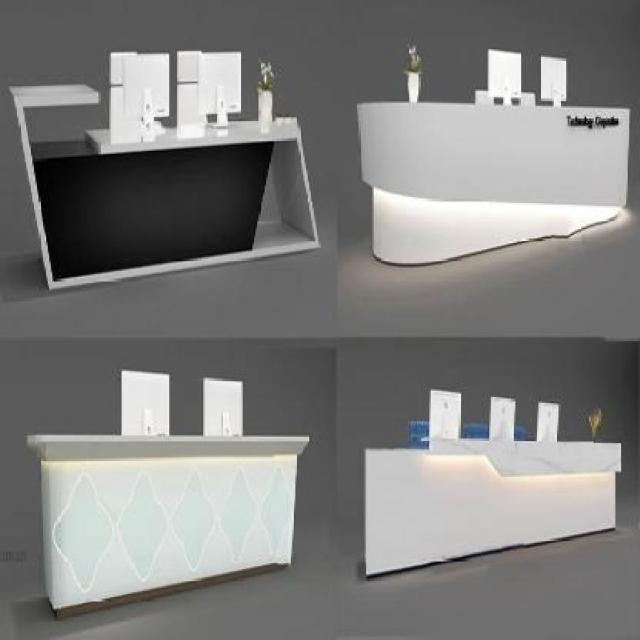frontdesk: (3, 61, 329, 292), (17, 400, 315, 637), (351, 75, 633, 278), (354, 406, 629, 594)
